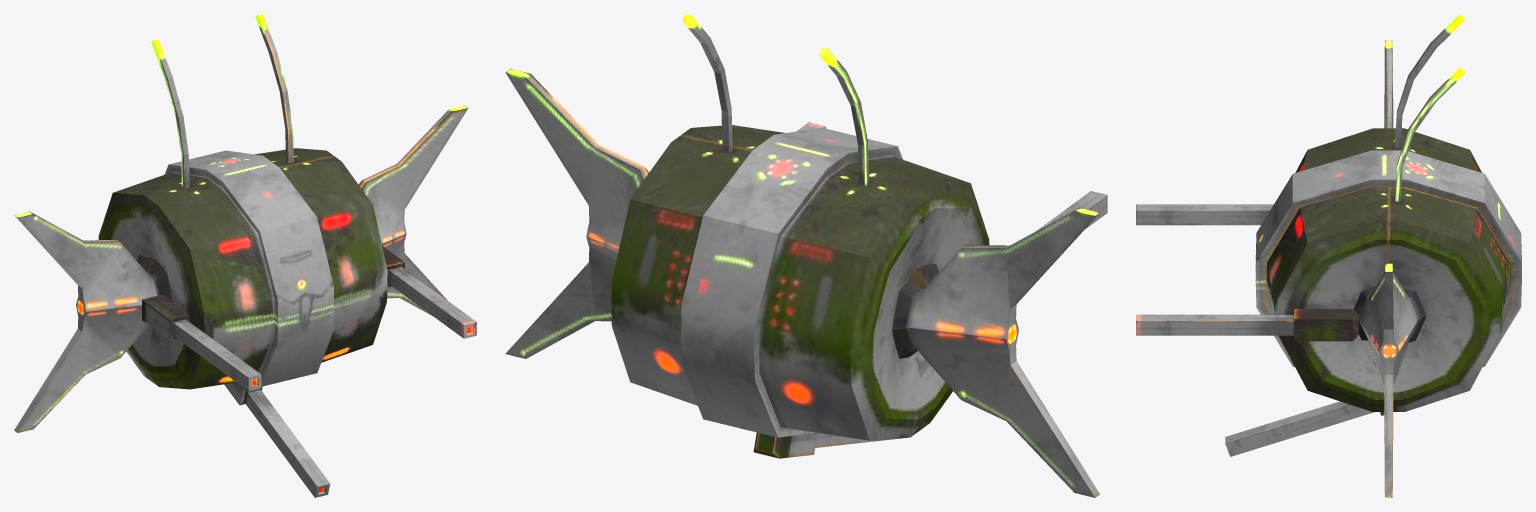
Rendered from mine.glb.
3 views of the same model, side by side, from view 1: azimuth 30°, elevation 25°; view 2: azimuth 150°, elevation 25°; view 3: azimuth 270°, elevation 25° (orthographic). The views are drawn at different scales.
Visible parts, largest first — view 1: mine_0; view 2: mine_0; view 3: mine_0.
Part boxes in pixels (x1,y1,x2,y2): mine_0: [14, 14, 476, 497]; mine_0: [505, 14, 1107, 497]; mine_0: [1136, 14, 1521, 497].
Size of the model in its own units: 1 by 0.8269 by 0.7054.
1 material, 1 textured.
